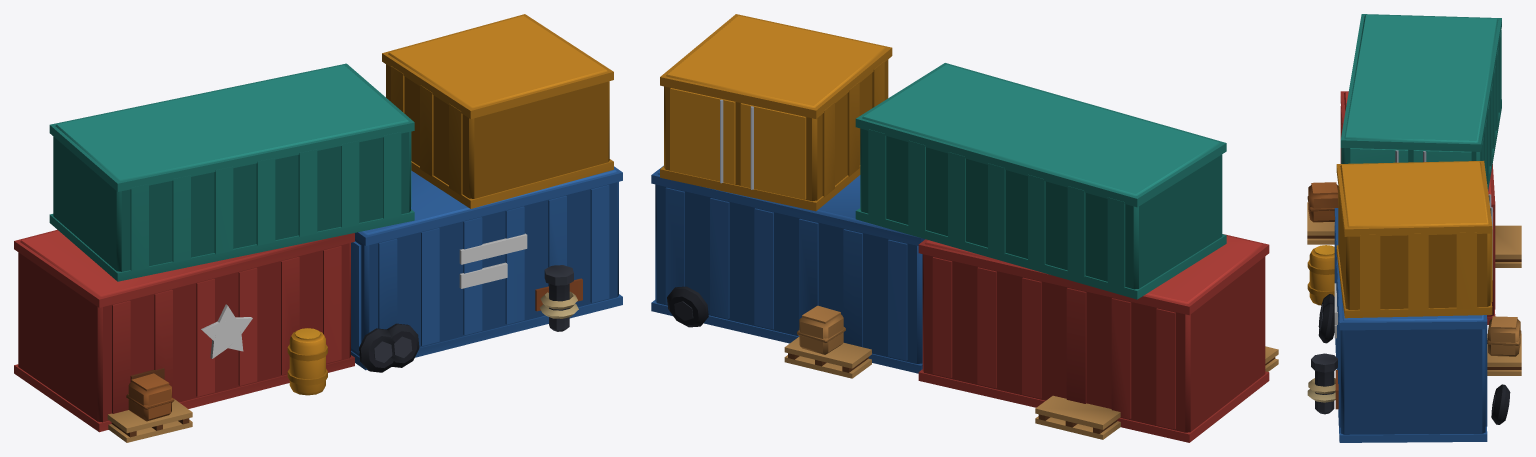
The model's file is x_barrier_kueste.glb.
3 views of the same model, side by side, from view 1: azimuth 30°, elevation 25°; view 2: azimuth 150°, elevation 25°; view 3: azimuth 270°, elevation 25° (orthographic). The views are drawn at different scales.
Visible parts, largest first — view 1: body; view 2: body; view 3: body.
Boxes of the visible parts, x1,y1,x2,y2 form: body: [14, 14, 622, 442]; body: [651, 14, 1278, 442]; body: [1307, 14, 1521, 442].
Bounding box in the file's own units: 7.99 × 3.4 × 3.1.
